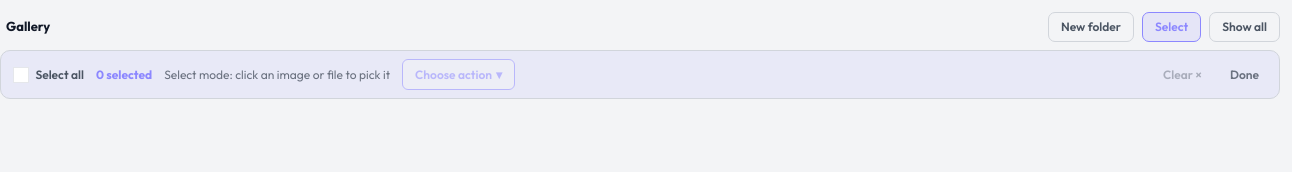
Test case: GalleryFolderToolsComponent › selecting and moving images › has a select-all that becomes Unselect all, so nothing has to be unclicked by hand
Step 1. Click the checkbox with class "folder-tools__select-all-box" → point(21, 75), box [13, 67, 29, 83]
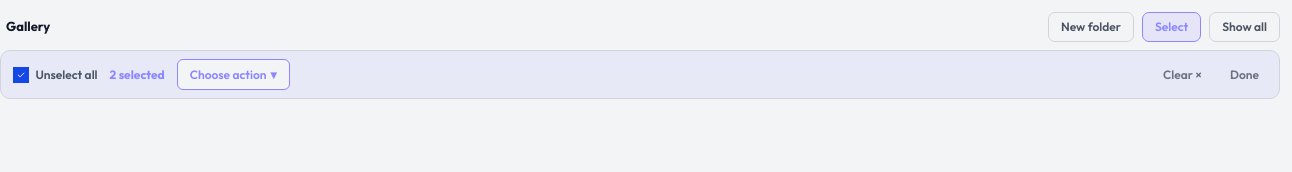
Expected: the checkbox with class "folder-tools__select-all-box" is checked
Expected: the text "2 selected" is shown, [110, 66, 165, 84]
Expected: the label with class "folder-tools__select-all" reads "Unselect all", [35, 67, 98, 82]
Step 2. Click the checkbox with class "folder-tools__select-all-box" → point(21, 75), box [13, 67, 29, 83]
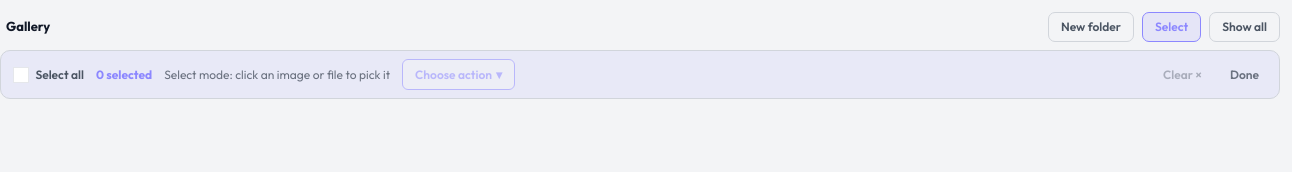
Expected: the text "0 selected" is shown, [96, 66, 152, 84]
Expected: the label with class "folder-tools__select-all" reads "Select all", [35, 67, 84, 82]
